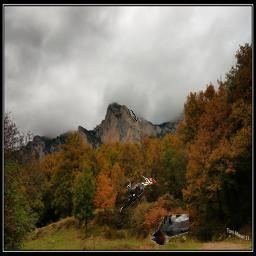Swallow: (149, 214, 189, 245), (130, 110, 141, 121)
Woodpecker: (120, 174, 156, 214)
